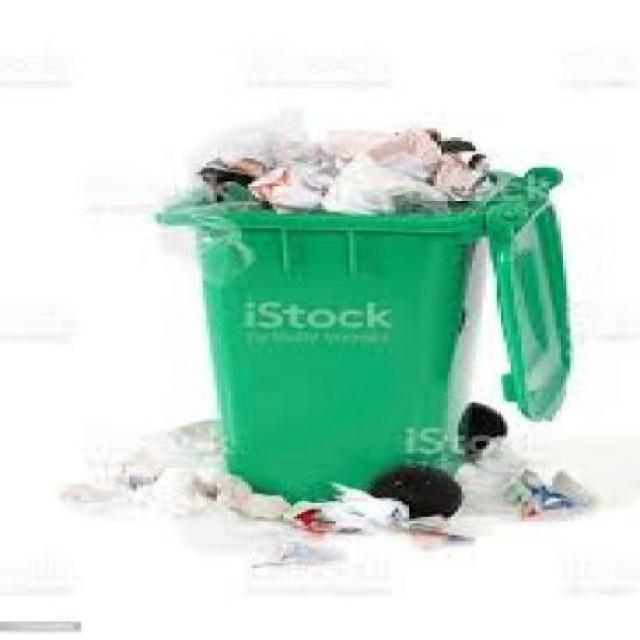garbage: (126, 417, 588, 562), (211, 122, 480, 208)
